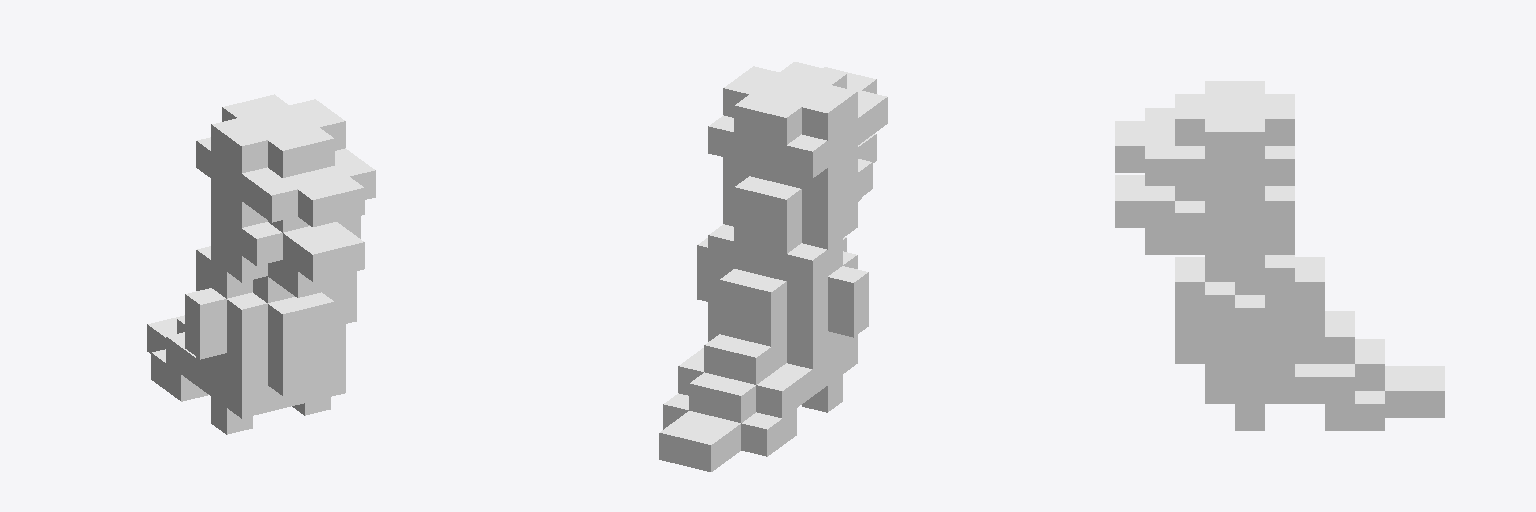
File: RedCrocod.obj
The picture shows the model from 3 angles: view 1: azimuth 30°, elevation 25°; view 2: azimuth 150°, elevation 25°; view 3: azimuth 270°, elevation 25°; orthographic projection.
Visible parts, largest first — view 1: object 1; view 2: object 1; view 3: object 1.
Boxes of the visible parts, box(x1,y1,x2,y2) form: object 1: box(147, 94, 375, 434); object 1: box(659, 62, 887, 471); object 1: box(1115, 81, 1444, 430).
Bounding box in the file's own units: 0.6 × 1.1 × 1.1.